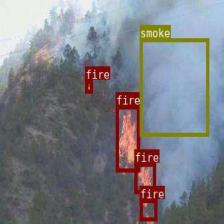fire: (115, 105, 139, 171), (134, 162, 155, 193), (139, 198, 157, 220), (84, 79, 92, 93)
smoke: (139, 37, 209, 136)
